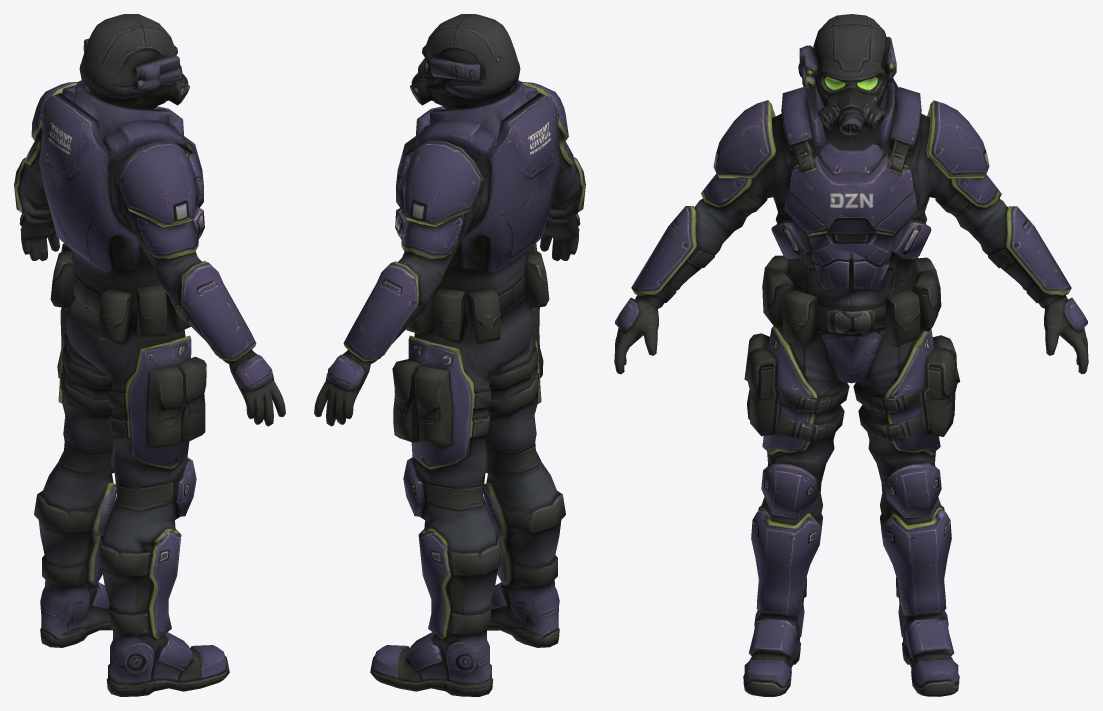
File: warden_l05_rosebud_tripo.glb
3 views of the same model, side by side, from view 1: azimuth 30°, elevation 25°; view 2: azimuth 150°, elevation 25°; view 3: azimuth 270°, elevation 25° (orthographic). The views are drawn at different scales.
Parts seen in each view (by area): view 1: tripo_node_5d7957e4-96ea-4841-b5c2-d7dc09336234; view 2: tripo_node_5d7957e4-96ea-4841-b5c2-d7dc09336234; view 3: tripo_node_5d7957e4-96ea-4841-b5c2-d7dc09336234.
Boxes of the visible parts, bbox=[...] form: tripo_node_5d7957e4-96ea-4841-b5c2-d7dc09336234: bbox=[14, 14, 285, 696]; tripo_node_5d7957e4-96ea-4841-b5c2-d7dc09336234: bbox=[314, 14, 585, 696]; tripo_node_5d7957e4-96ea-4841-b5c2-d7dc09336234: bbox=[614, 14, 1088, 696].
Size of the model in its own units: 0.228 by 0.9995 by 0.6587.
1 material, 1 textured.
